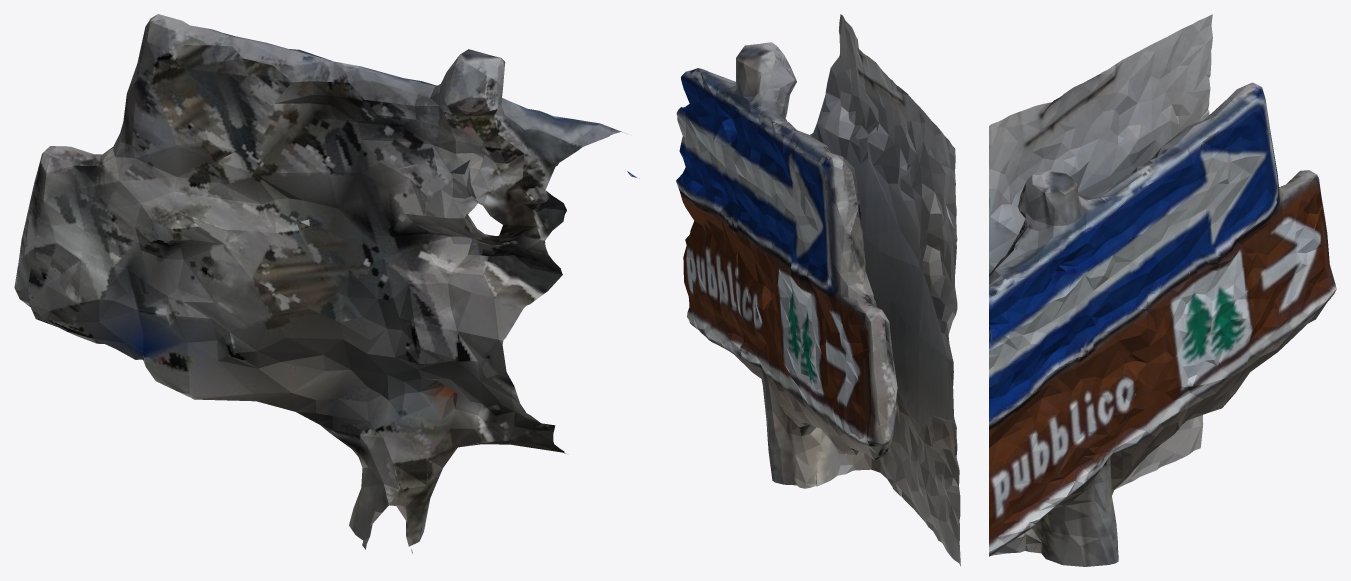
3 views of the same model, side by side, from view 1: azimuth 30°, elevation 25°; view 2: azimuth 150°, elevation 25°; view 3: azimuth 270°, elevation 25° (orthographic). The views are drawn at different scales.
Size of the model in its own units: 0.8039 by 0.8374 by 0.6077.
5 materials, 5 textured.
